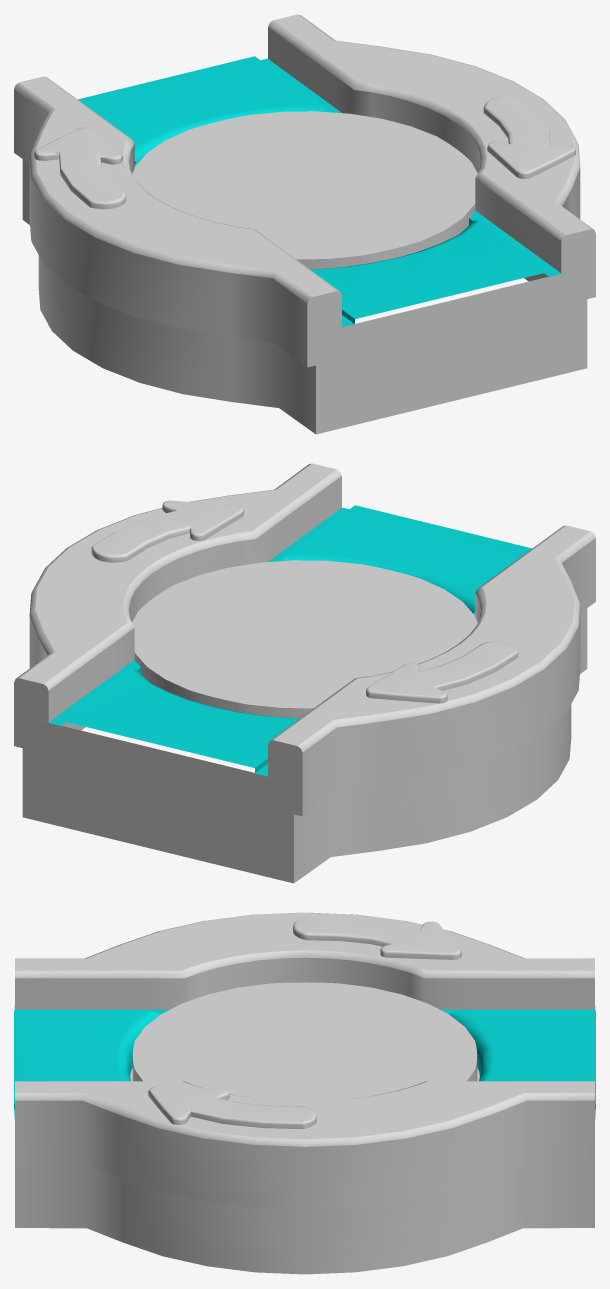
File: RotatorOneQuadInternalVariant.gltf
3 renders of one model, top to bottom at view 1: azimuth 30°, elevation 25°; view 2: azimuth 150°, elevation 25°; view 3: azimuth 270°, elevation 25°, orthographic.
Parts seen in each view (by area): view 1: Rotator_90CW_Main_LOD0, Rotator_90CW_Arrows_LOD0; view 2: Rotator_90CW_Main_LOD0, Rotator_90CW_Arrows_LOD0; view 3: Rotator_90CW_Main_LOD0, Rotator_90CW_Arrows_LOD0.
Part boxes in pixels (x1,y1,x2,y2): Rotator_90CW_Main_LOD0: [14, 14, 595, 434]; Rotator_90CW_Arrows_LOD0: [132, 111, 477, 269]; Rotator_90CW_Main_LOD0: [14, 463, 595, 883]; Rotator_90CW_Arrows_LOD0: [132, 560, 477, 718]; Rotator_90CW_Main_LOD0: [14, 912, 595, 1274]; Rotator_90CW_Arrows_LOD0: [130, 982, 479, 1101].
Bounding box in the file's own units: 0.9446 × 0.272 × 1.
